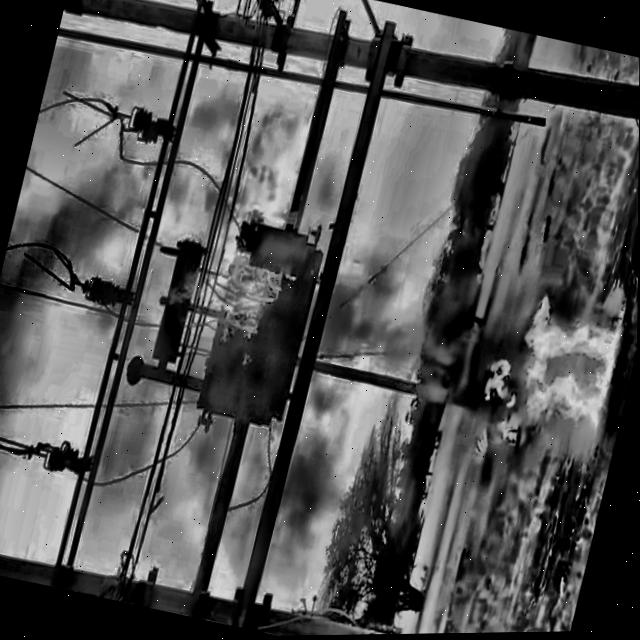Fire: (454, 264, 638, 496), (149, 182, 330, 372)
